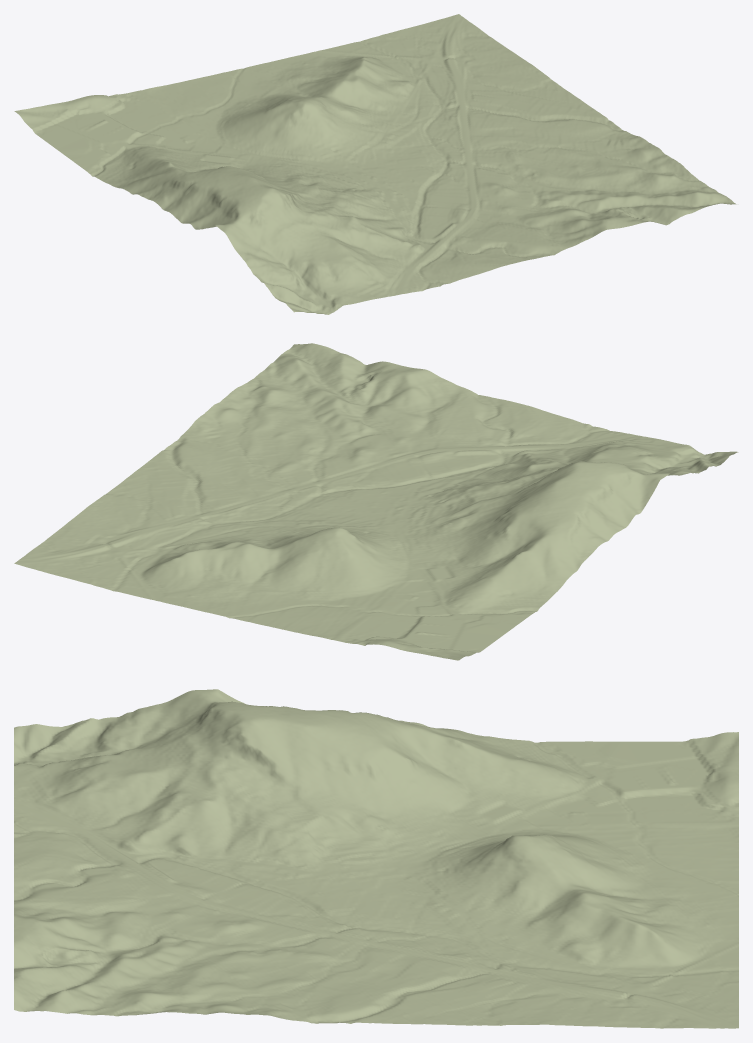
File: terrain-icv-2017-game-257.glb
3 views of the same model, one above another, from view 1: azimuth 30°, elevation 25°; view 2: azimuth 150°, elevation 25°; view 3: azimuth 270°, elevation 25° (orthographic). The views are drawn at different scales.
Parts seen in each view (by area): view 1: La Pobla Tornesa ground — current game extent; view 2: La Pobla Tornesa ground — current game extent; view 3: La Pobla Tornesa ground — current game extent.
Part boxes in pixels (left/top/right/bottom): La Pobla Tornesa ground — current game extent: left=14, top=14, right=736, bottom=314; La Pobla Tornesa ground — current game extent: left=14, top=343, right=738, bottom=660; La Pobla Tornesa ground — current game extent: left=14, top=689, right=738, bottom=1028.
Bounding box in the file's own units: 1431 × 178 × 1558.
